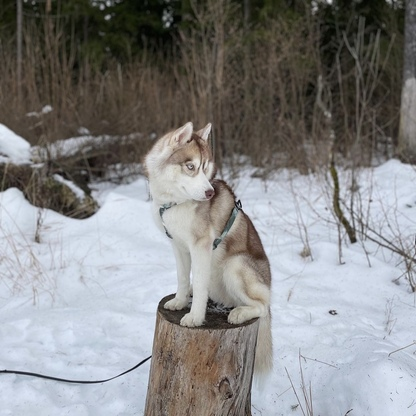husky: (136, 116, 284, 396)
